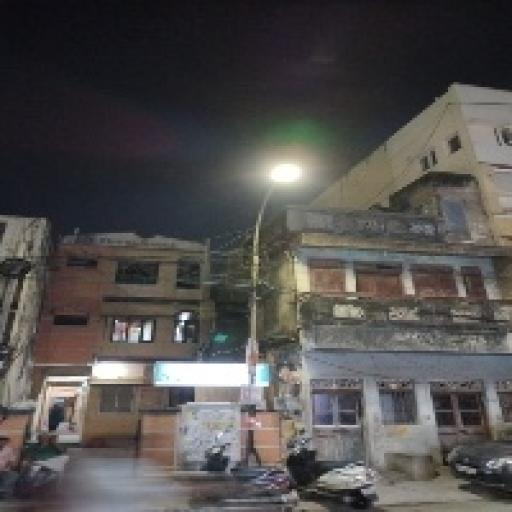Working: (265, 152, 308, 196)
